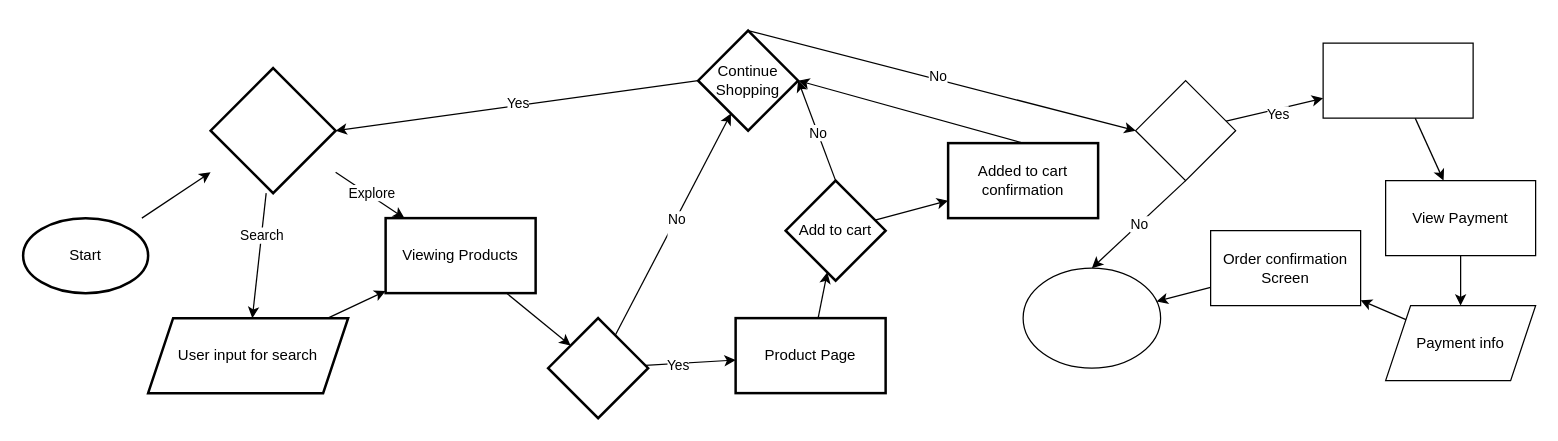
This 1558x441 diagram has some shape labels left out. The centre of each missing label's shape, as x and y in pixels:
Checkout: [1185,130]
Exit Website: [1091,317]
Search or Explore: [272,130]
View a specific product: [597,367]
View Cart: [1397,80]
